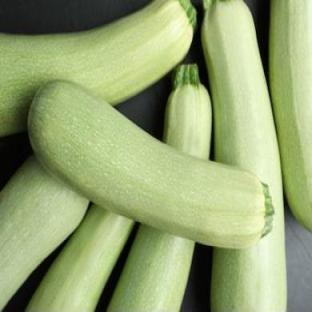Zucchini: (28, 82, 273, 248), (0, 156, 88, 309), (27, 206, 134, 311), (108, 226, 194, 311)
